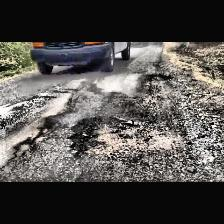pothole: (66, 116, 144, 159)
